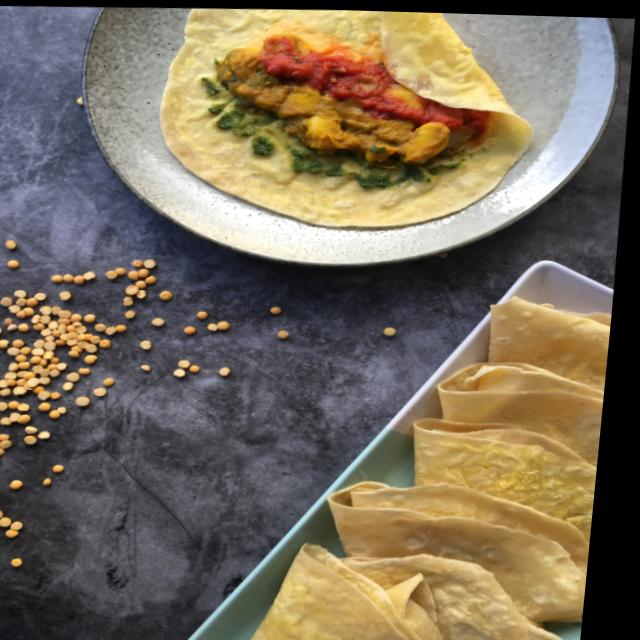CHAPATHI: (247, 296, 611, 640), (157, 8, 529, 228)
